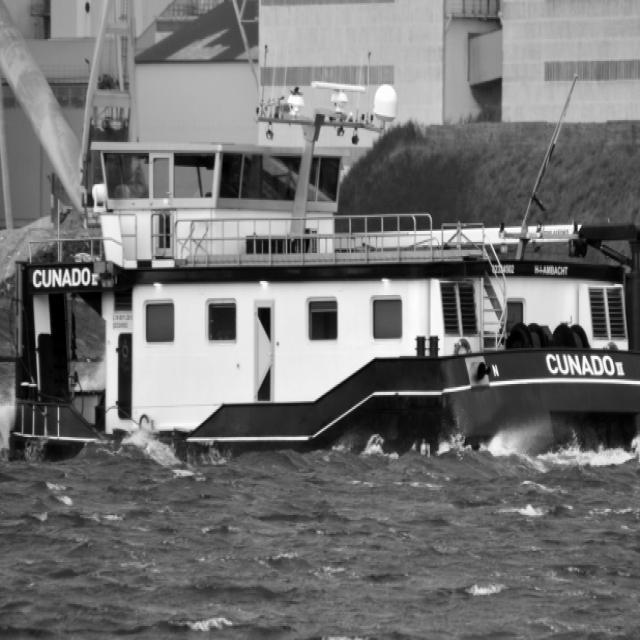tugboat: (1, 76, 640, 486)
